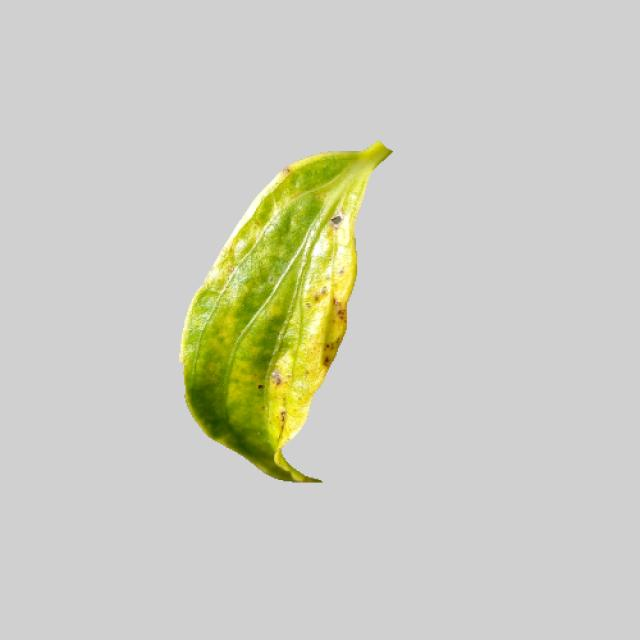yellow-mottle-virus: (175, 142, 392, 483)
